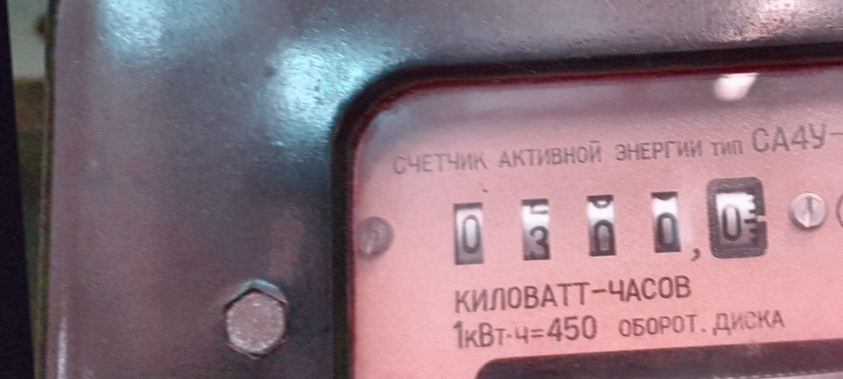0: (652, 207, 681, 252), (716, 198, 744, 243), (457, 208, 483, 256), (589, 214, 615, 257)
3: (525, 220, 551, 261)
screen: (428, 155, 789, 295)
